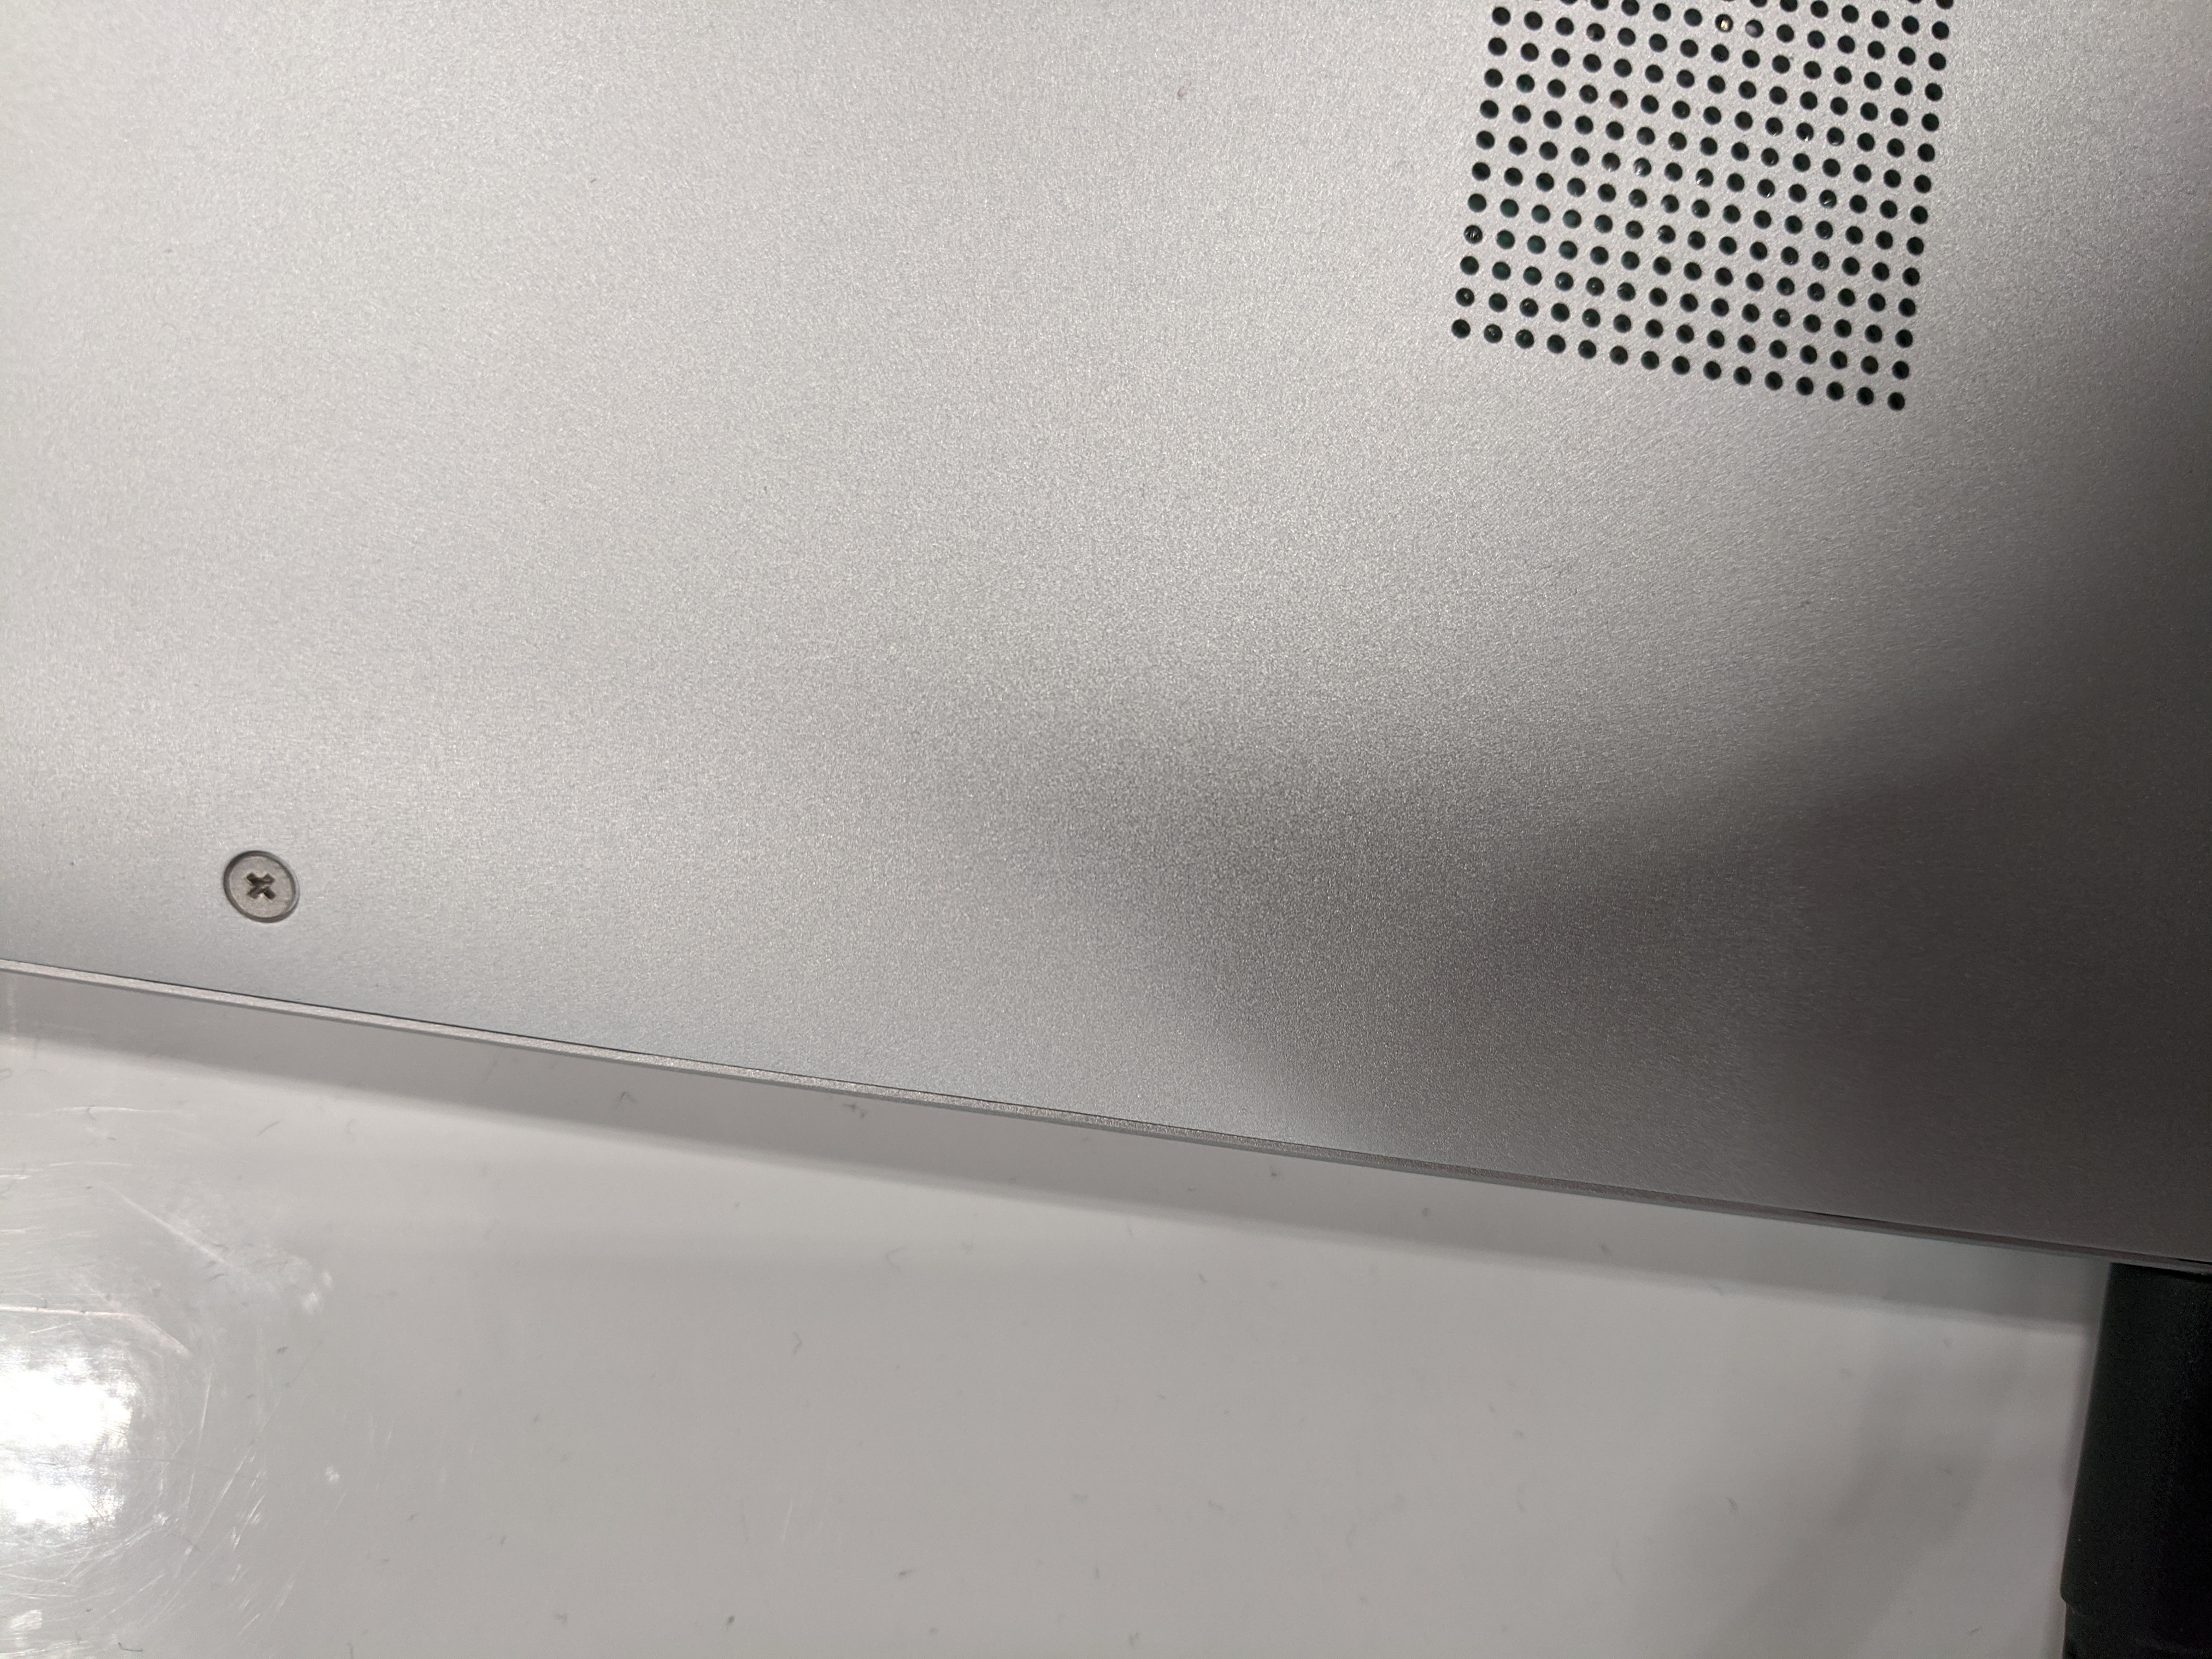cross_recessed_screw: (216, 840, 303, 922)
